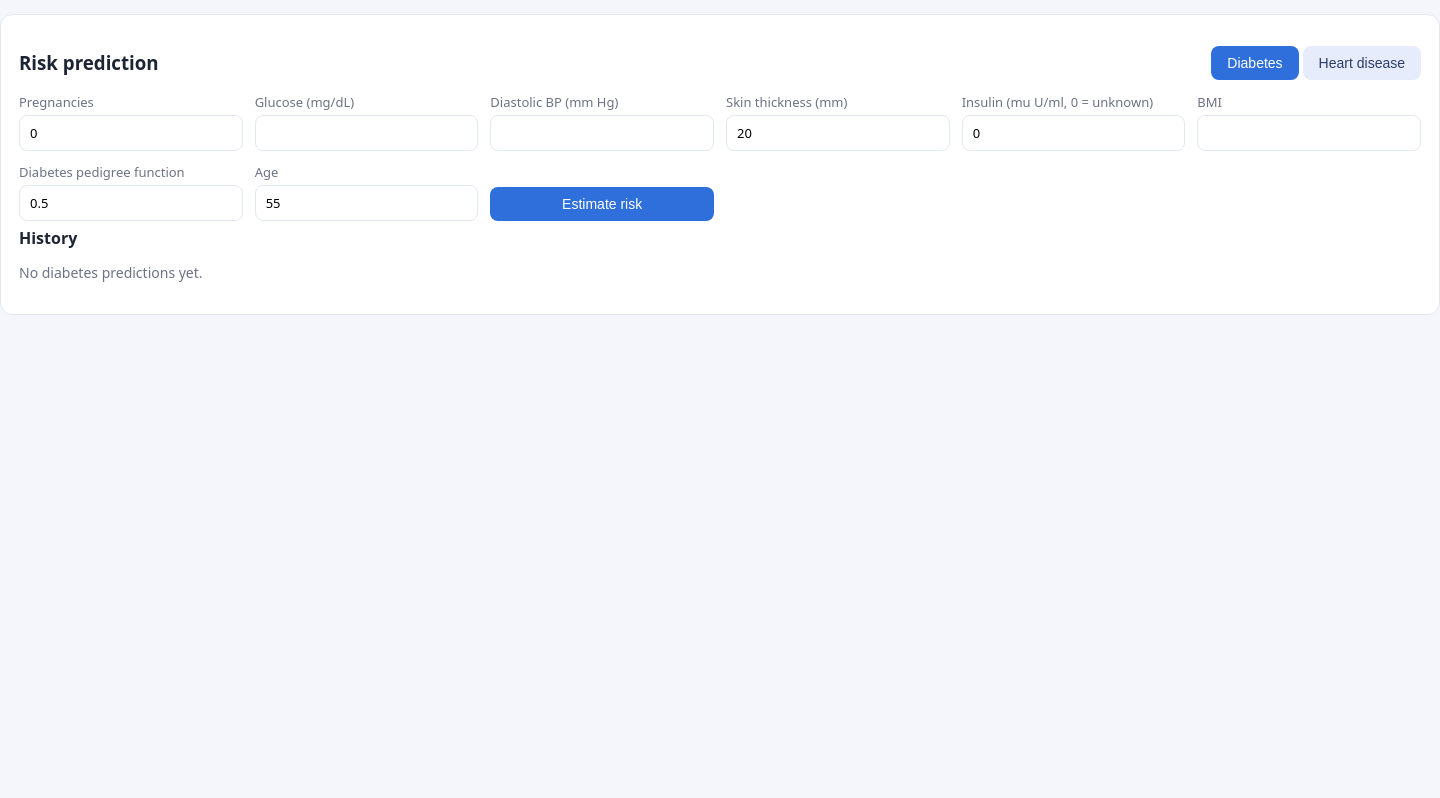
Test: PredictionPanel › switches between the diabetes and heart-disease forms and posts the right endpoint
Check: the number field labelled "Glucose (mg/dL)" is shown, box x1=255 y1=115 x2=478 y2=151
Click the button "Heart disease": {"x": 1362, "y": 63} x1=1303 y1=46 x2=1421 y2=80
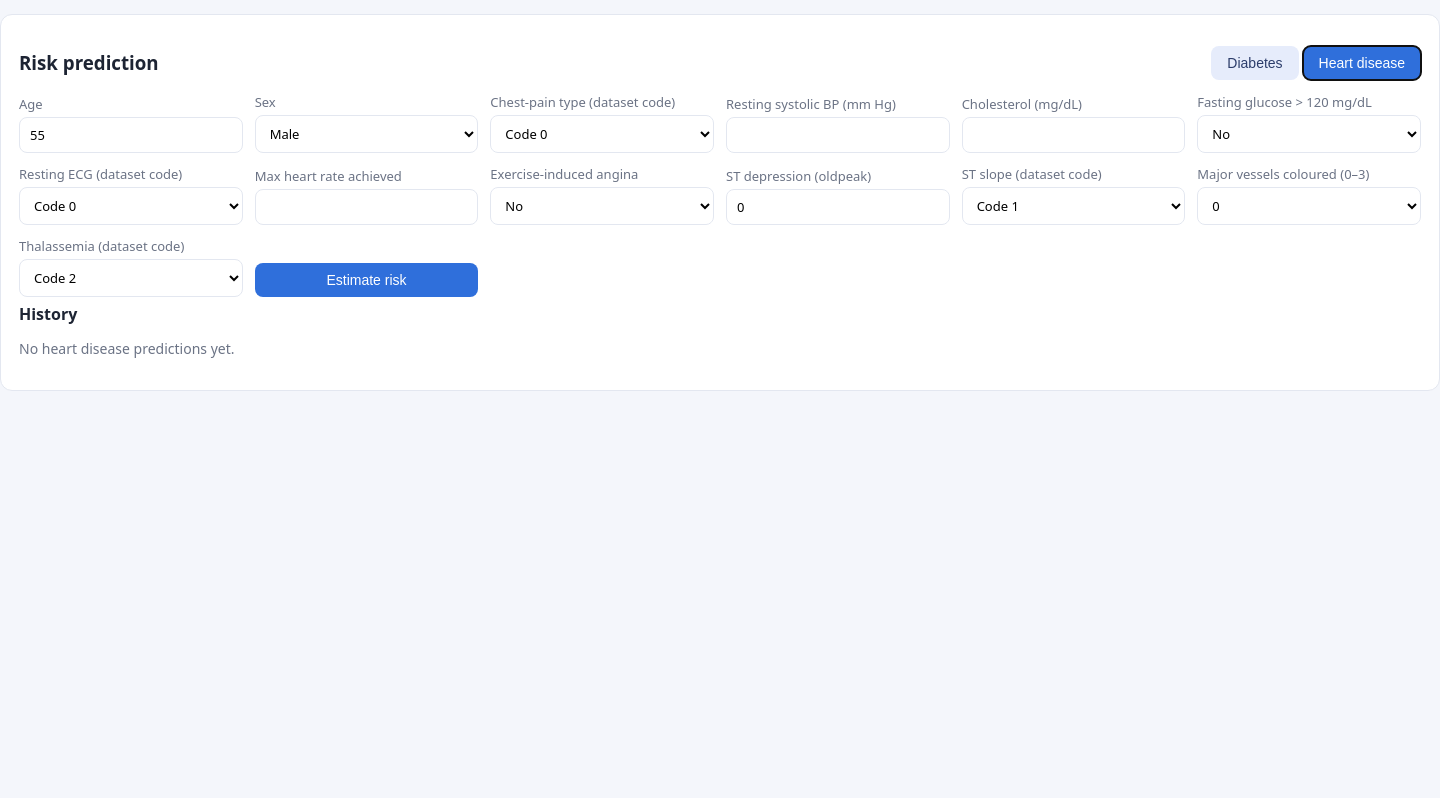
Check: the number field labelled "Cholesterol (mg/dL)" is shown, box x1=962 y1=117 x2=1185 y2=153
In the number field labelled "Resting systolic BP (mm Hg)": {"x": 838, "y": 135} x1=726 y1=117 x2=950 y2=153, type "140"
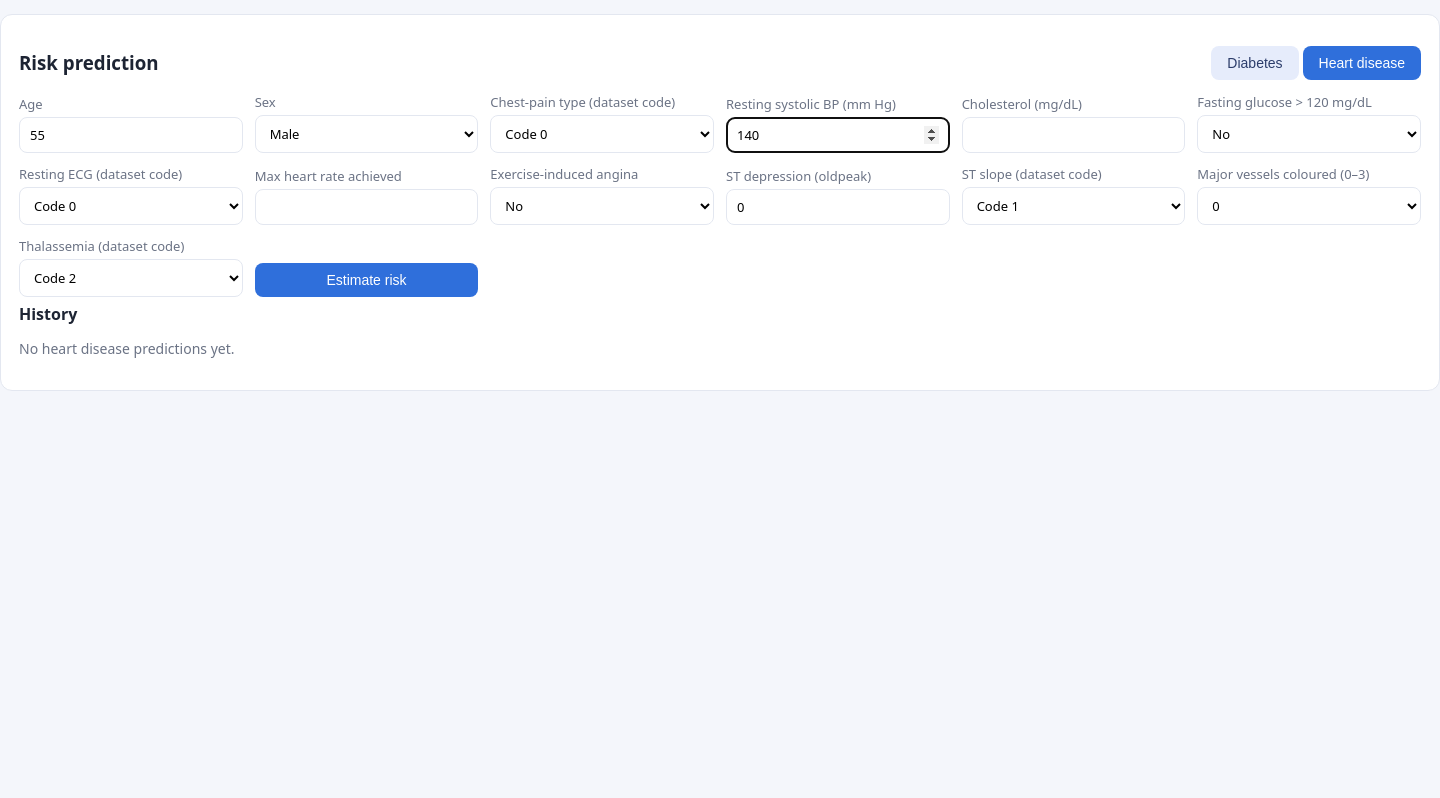
In the number field labelled "Cholesterol (mg/dL)": {"x": 1074, "y": 135} x1=962 y1=117 x2=1185 y2=153, type "240"
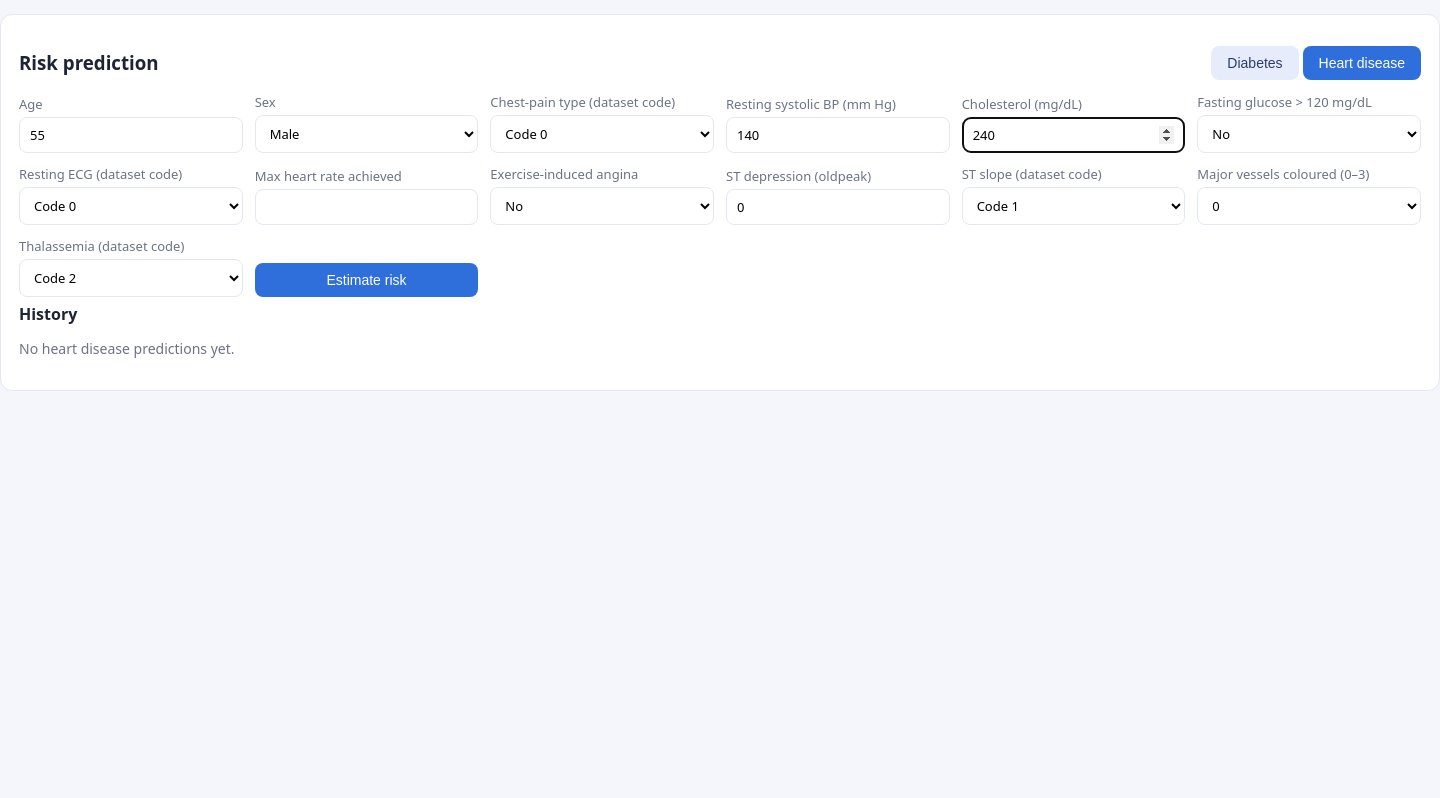
In the number field labelled "Max heart rate achieved": {"x": 367, "y": 207} x1=255 y1=189 x2=478 y2=225, type "150"
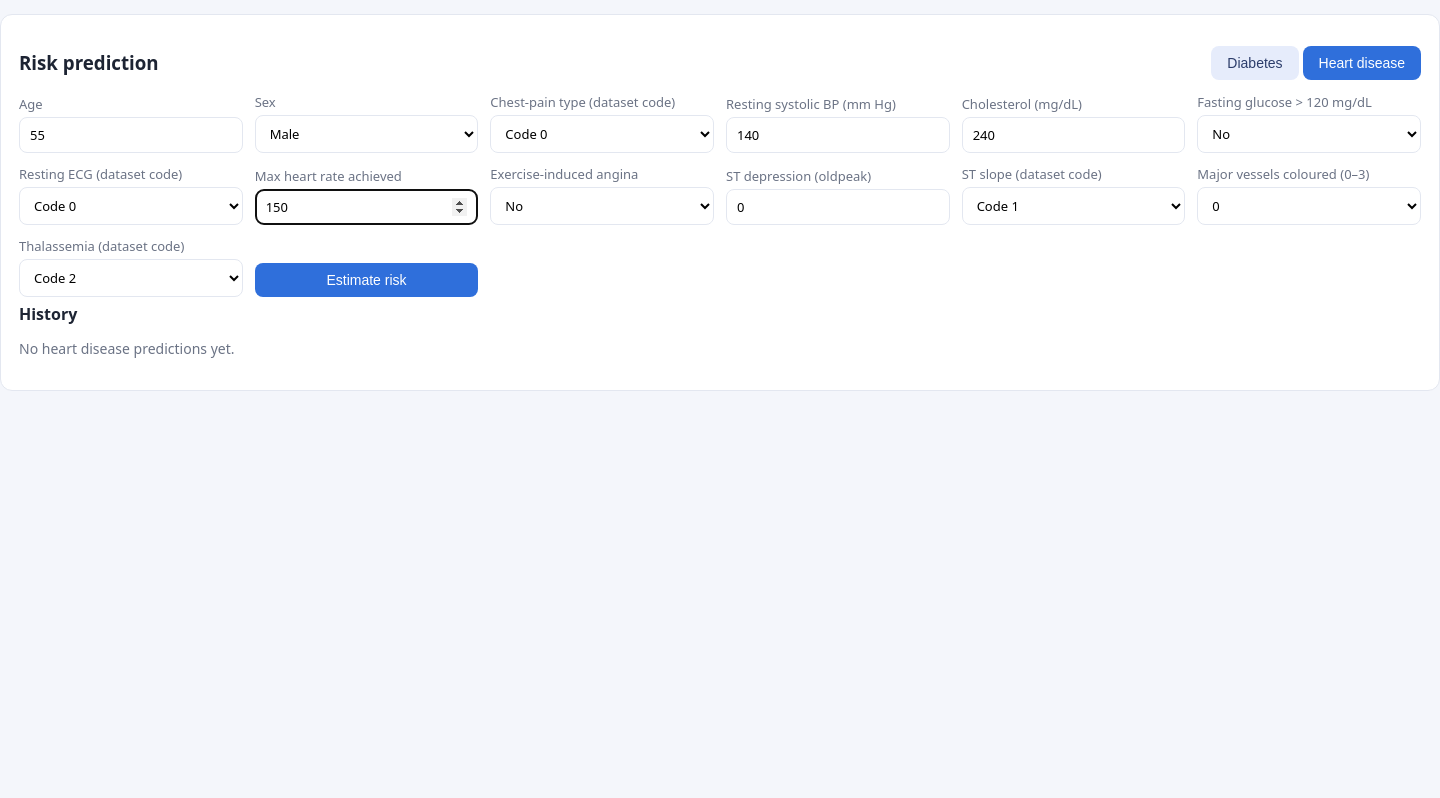
Click the button "Estimate risk": {"x": 367, "y": 280} x1=255 y1=263 x2=478 y2=297
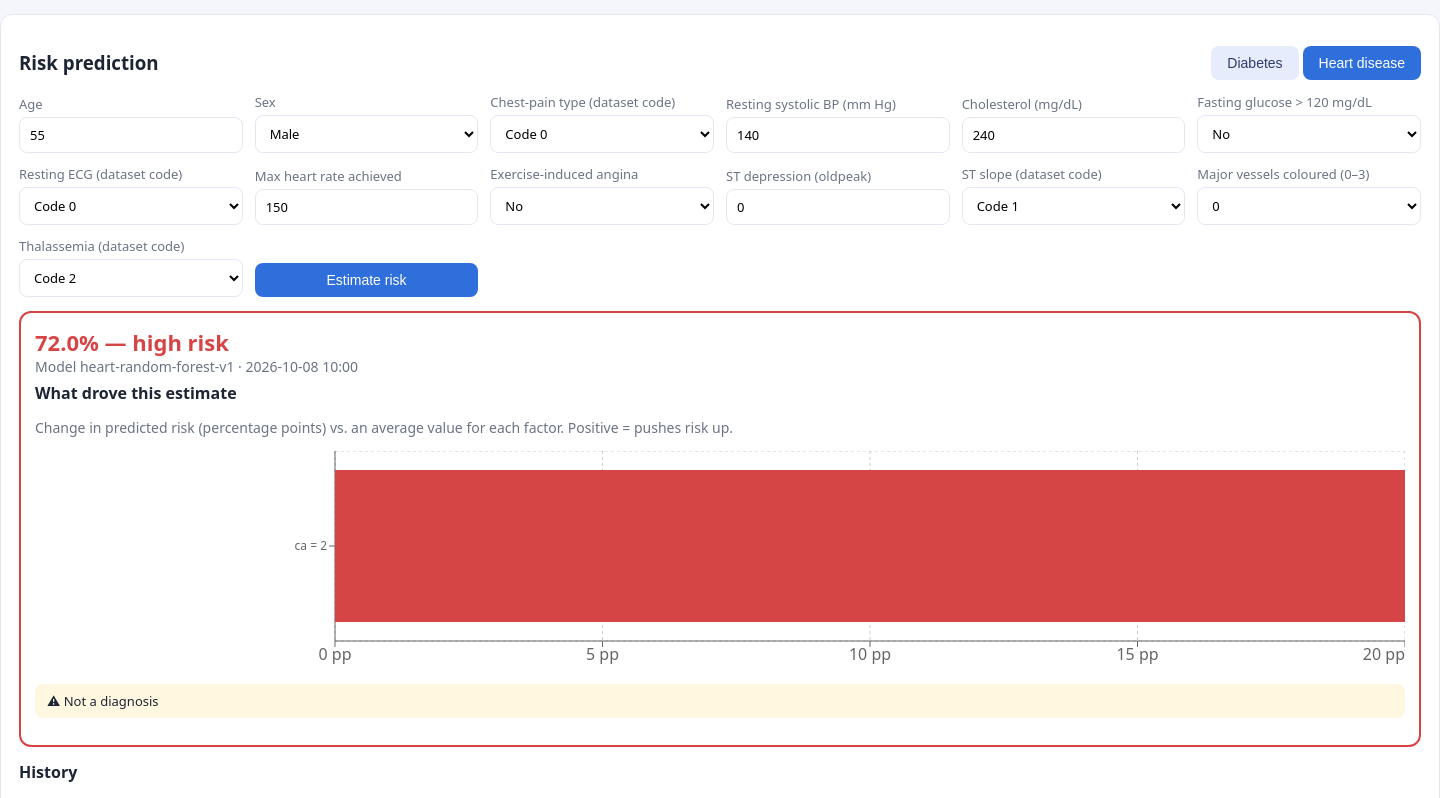
Check: the text "72.0% — high risk" is shown, box x1=35 y1=327 x2=229 y2=357
Check: the text "⚠ Not a diagnosis" is shown, box x1=35 y1=684 x2=1405 y2=718
